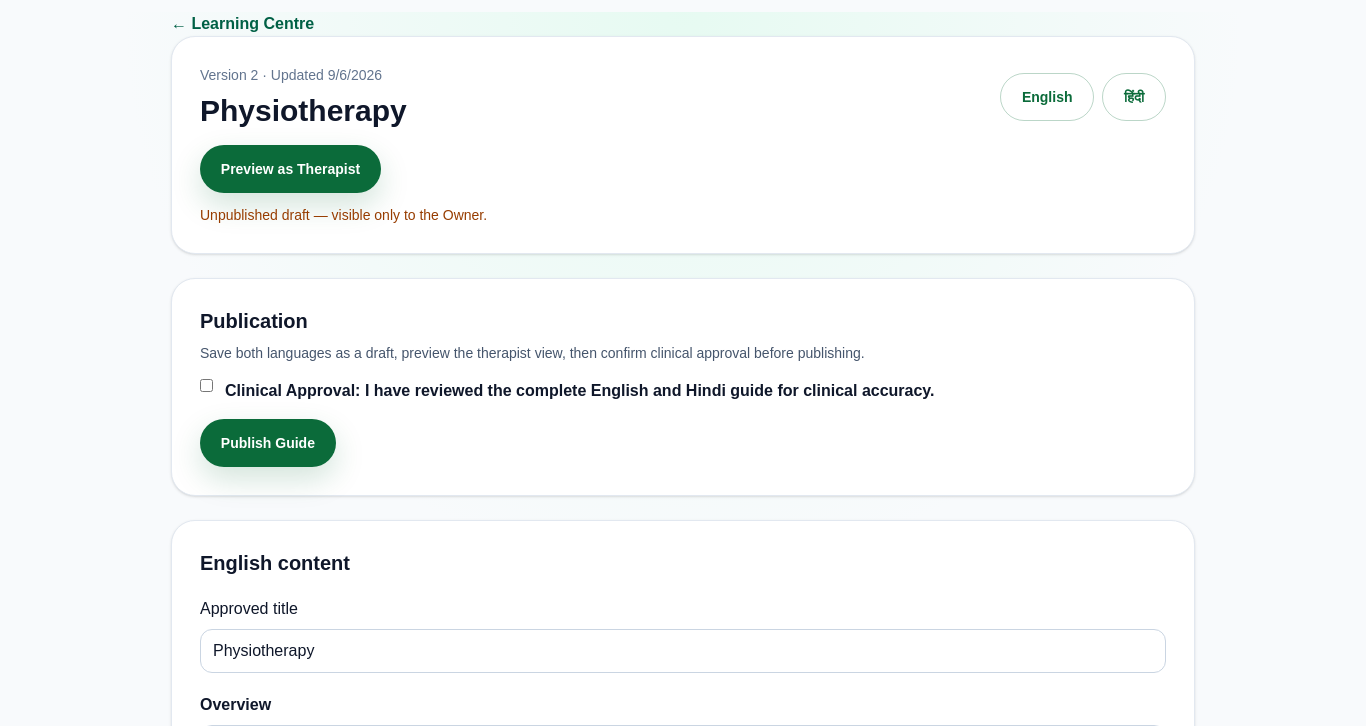
it: therapist practitioner experience › requires clinical approval to publish and provides a separate unpublish action
Check: the button "Publish Guide" is disabled, box [200,419,336,467]
Click the button "Preview as Therapist" at (290, 169), box [200,145,381,193]
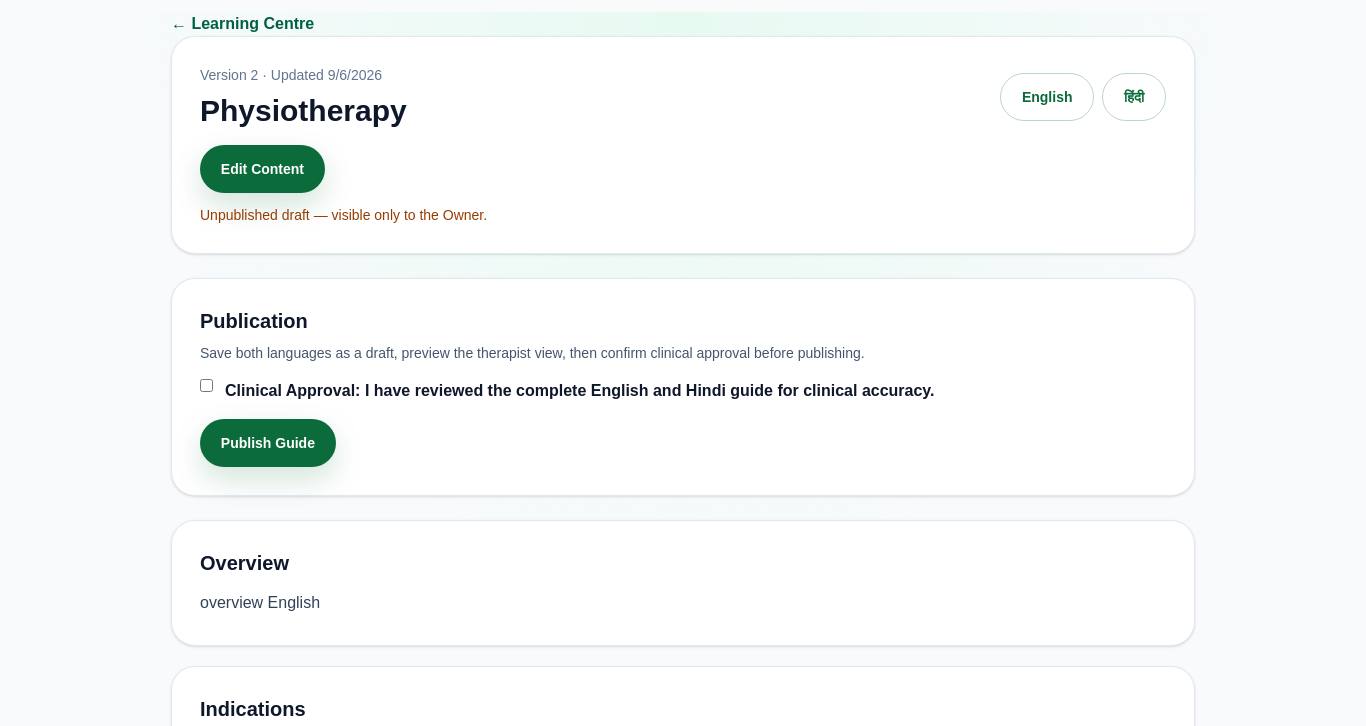
Click the checkbox labelled "Clinical Approval" at (206, 386), box [200,379,213,392]
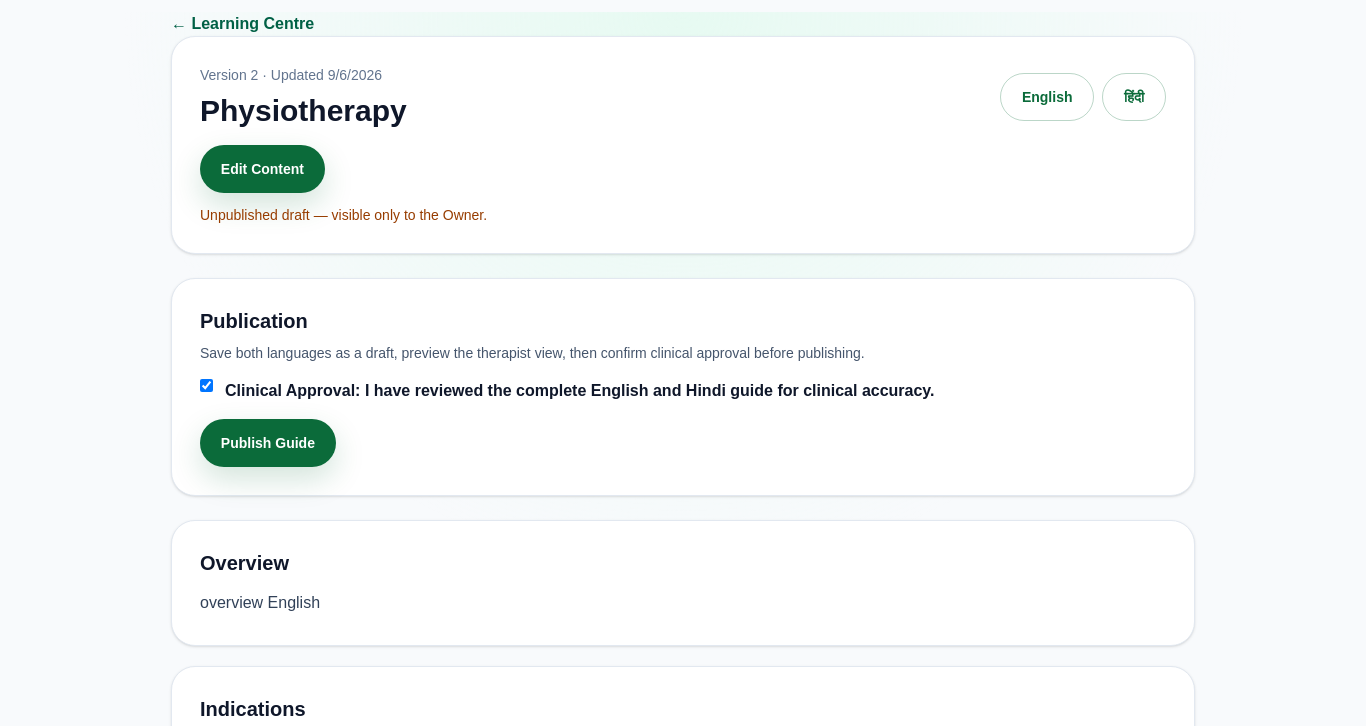
Click the button "Publish Guide" at (268, 443), box [200,419,336,467]
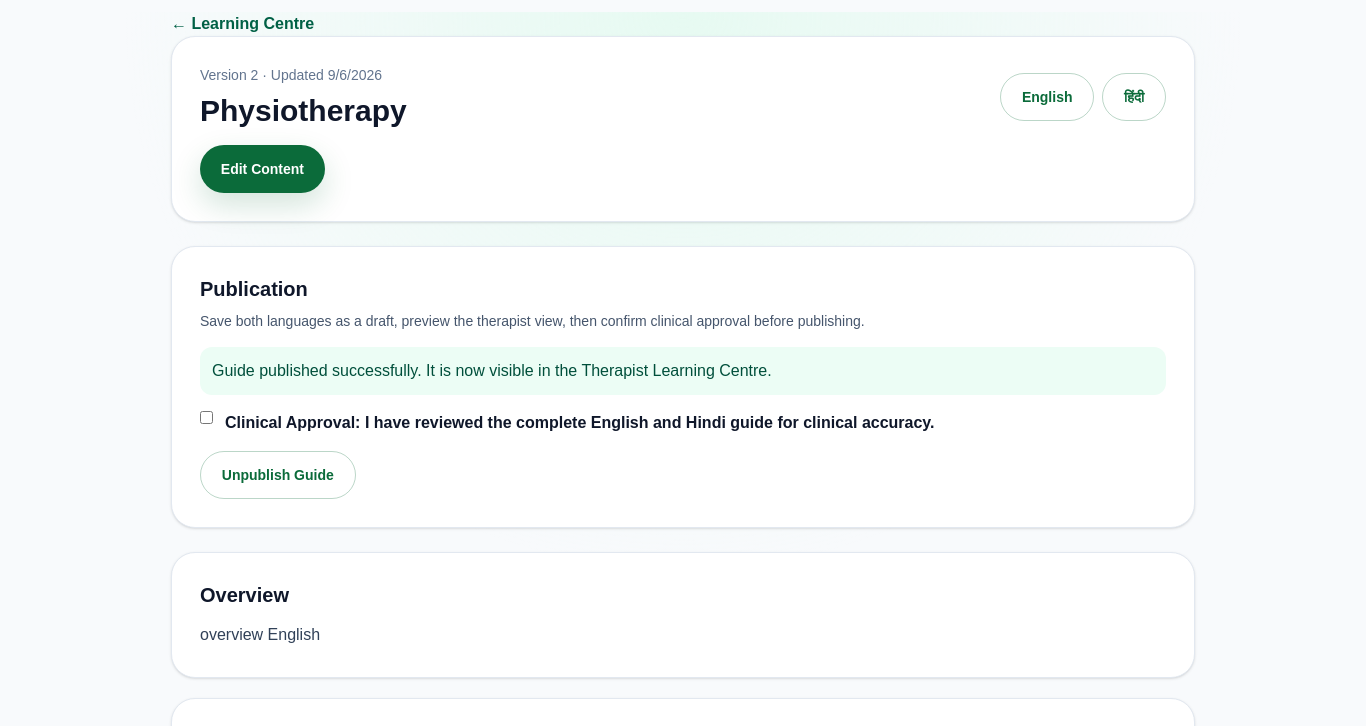
Check: the text "Guide published successfully" is shown, box [212,362,772,379]
Click the button "Unpublish Guide" at (278, 475), box [200,451,356,499]
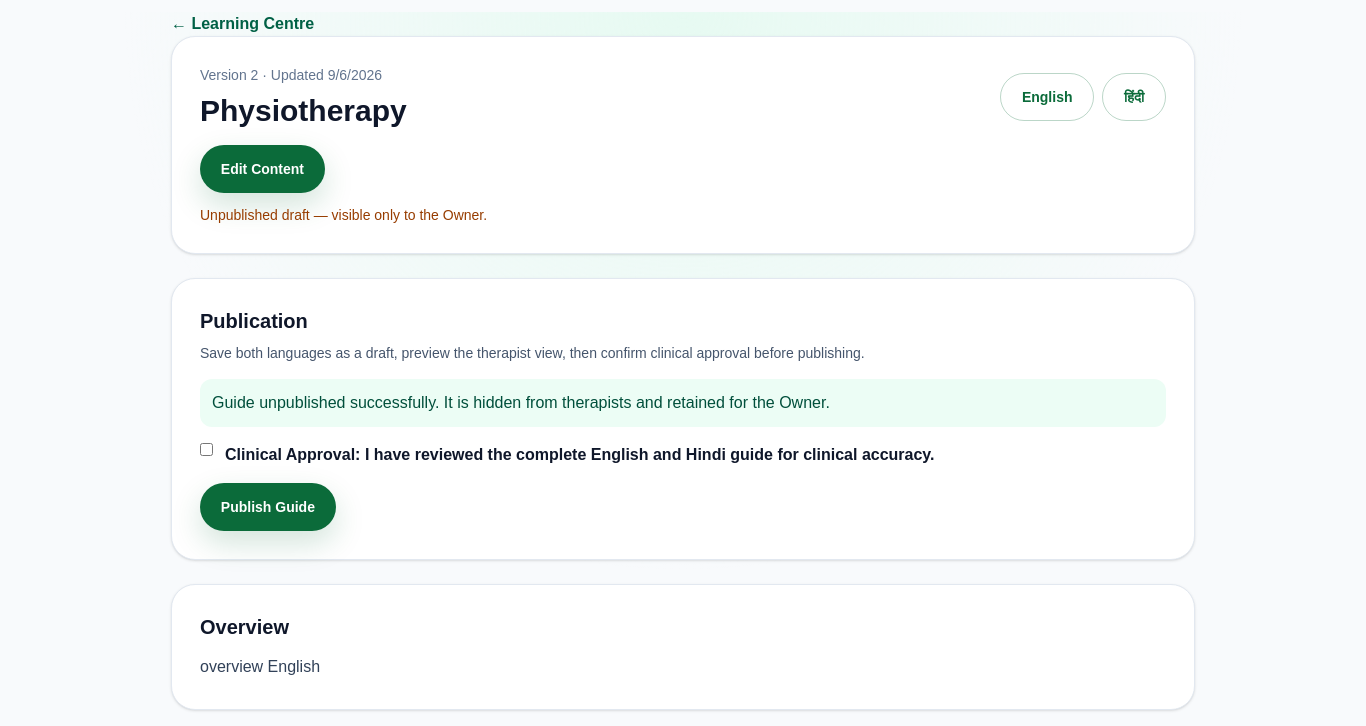
Check: the text "Guide unpublished successfully" is shown, box [212,394,830,411]
